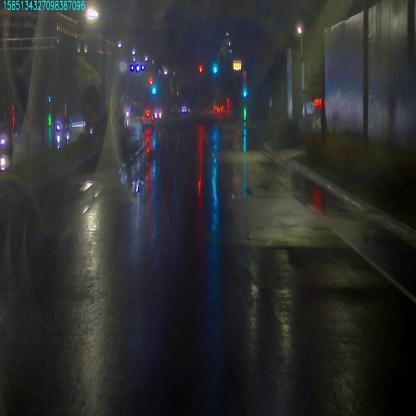traffic-light: (211, 63, 218, 76), (197, 63, 203, 74)
